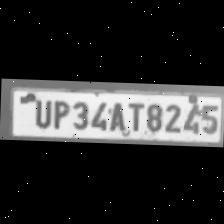2: (162, 99, 182, 133)
3: (68, 97, 90, 129)
4: (88, 96, 108, 130), (182, 100, 200, 134)
5: (198, 99, 218, 134)
8: (142, 99, 164, 132)
A: (104, 96, 125, 132)
P: (49, 96, 69, 128)
T: (124, 98, 144, 132)
U: (30, 94, 52, 127)
